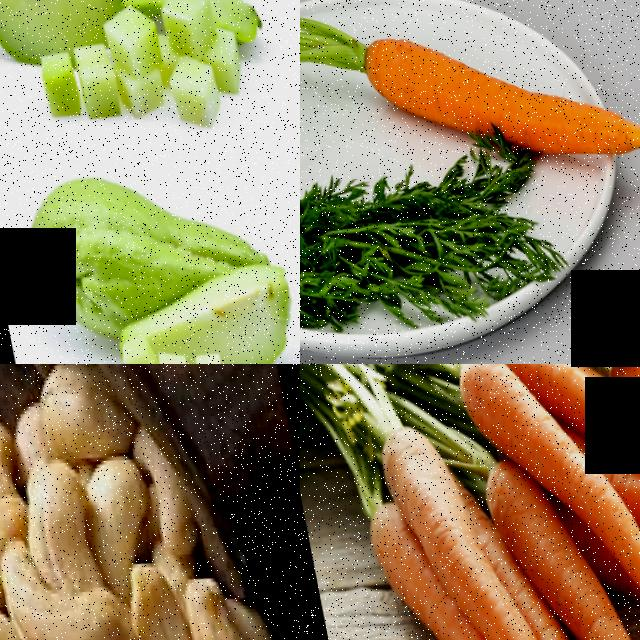carrot: (307, 0, 640, 210), (362, 389, 467, 558), (444, 364, 552, 481), (550, 506, 640, 640)
cashew: (68, 442, 162, 610), (5, 443, 96, 592), (0, 557, 136, 640), (195, 561, 300, 640), (133, 542, 204, 640)
chayote: (0, 115, 248, 339)
